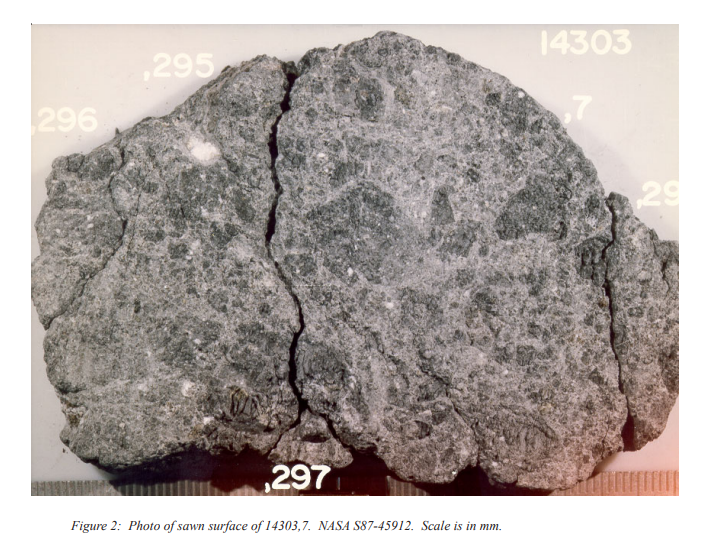Breccia: (77, 160, 637, 434), (306, 66, 672, 463), (53, 82, 288, 458)
